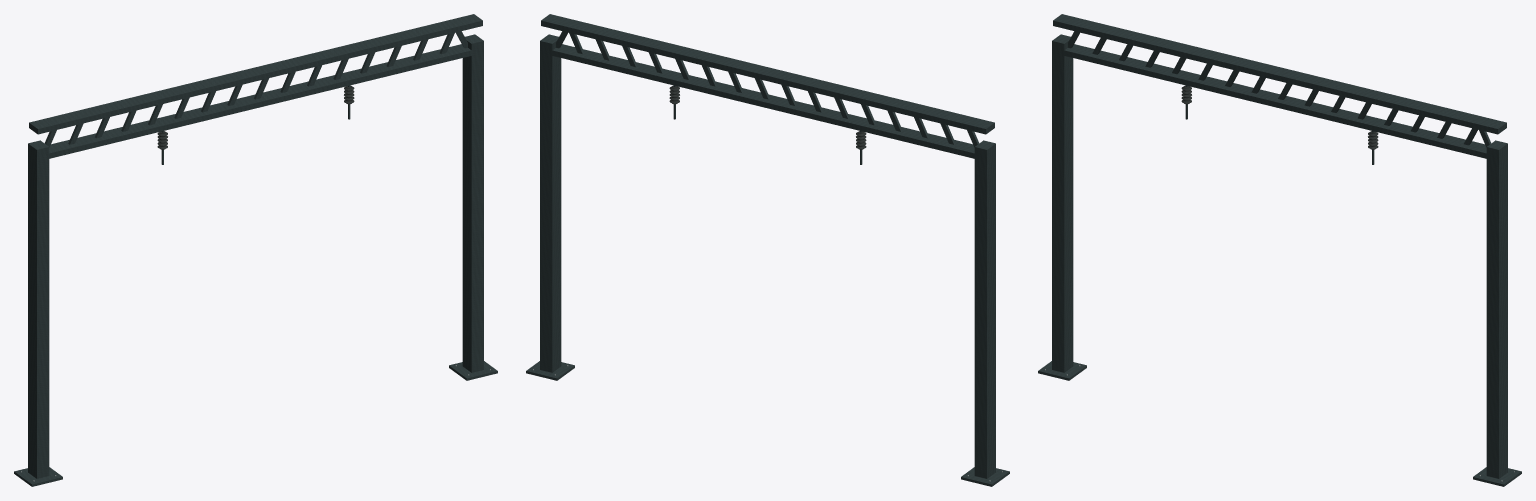
3 views of the same model, side by side, from view 1: azimuth 30°, elevation 25°; view 2: azimuth 150°, elevation 25°; view 3: azimuth 330°, elevation 25° (orthographic).
Parts seen in each view (by area): view 1: B027-05_frame_iron, B027-05_base_iron; view 2: B027-05_frame_iron, B027-05_base_iron; view 3: B027-05_frame_iron, B027-05_base_iron.
Boxes of the visible parts, left/top/right/bottom form: B027-05_frame_iron: left=28, top=14, right=483, bottom=478; B027-05_base_iron: left=14, top=361, right=497, bottom=486; B027-05_frame_iron: left=540, top=14, right=995, bottom=478; B027-05_base_iron: left=526, top=361, right=1009, bottom=486; B027-05_frame_iron: left=1052, top=14, right=1507, bottom=478; B027-05_base_iron: left=1038, top=361, right=1521, bottom=486.
Size of the model in its own units: 9 by 6.5 by 0.6.
Materials: 3 (3 with a texture image).
